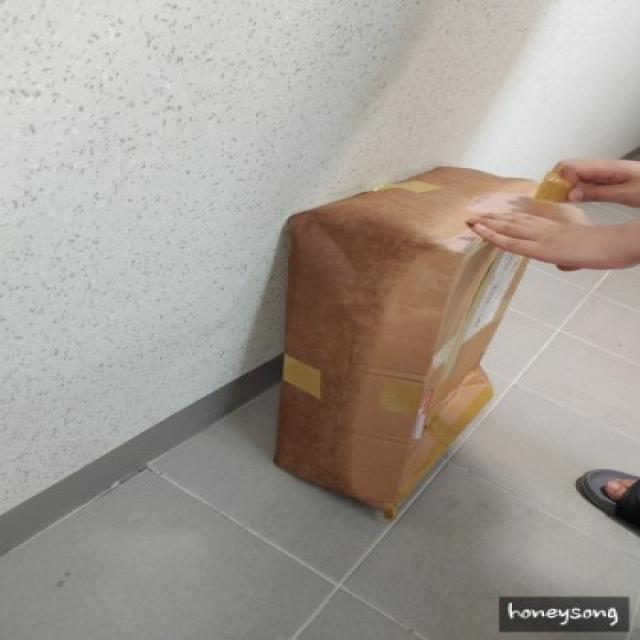wet: (286, 221, 391, 476)
